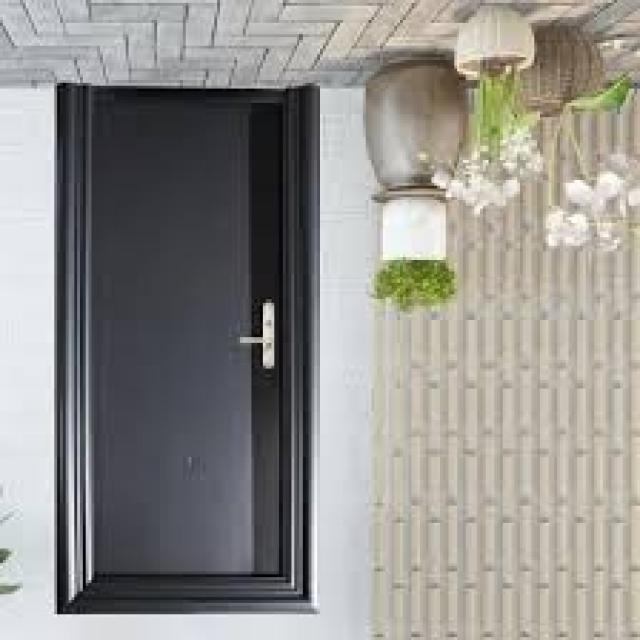door: (57, 84, 314, 613)
